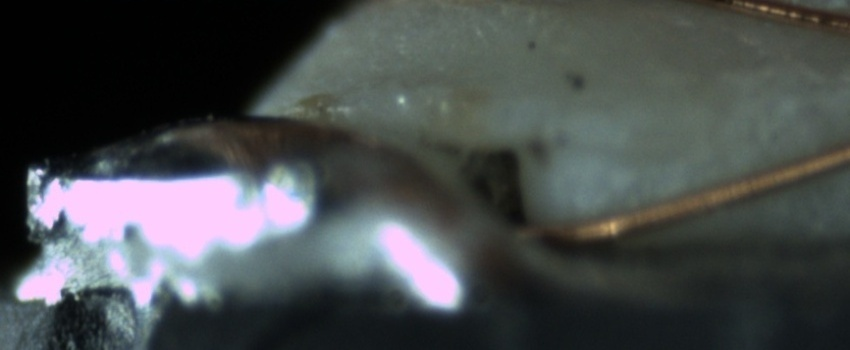DL: (566, 126, 703, 185)
